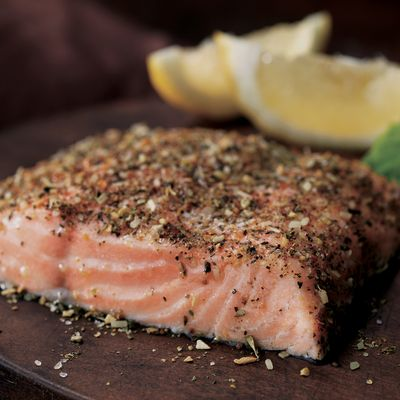curry: (362, 120, 400, 188)
pasta: (146, 10, 400, 154)
